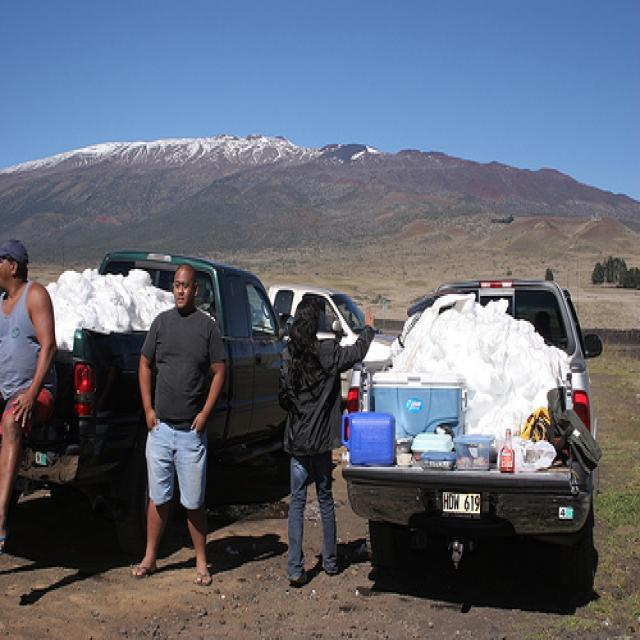light_vehicle: (0, 245, 289, 557), (343, 278, 603, 596), (265, 280, 394, 402)
